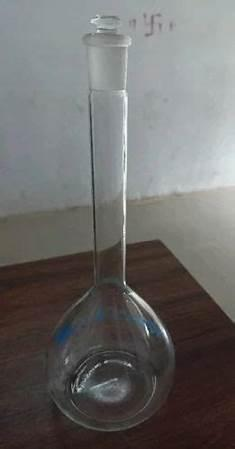Volumetric flask: (55, 18, 173, 427)
